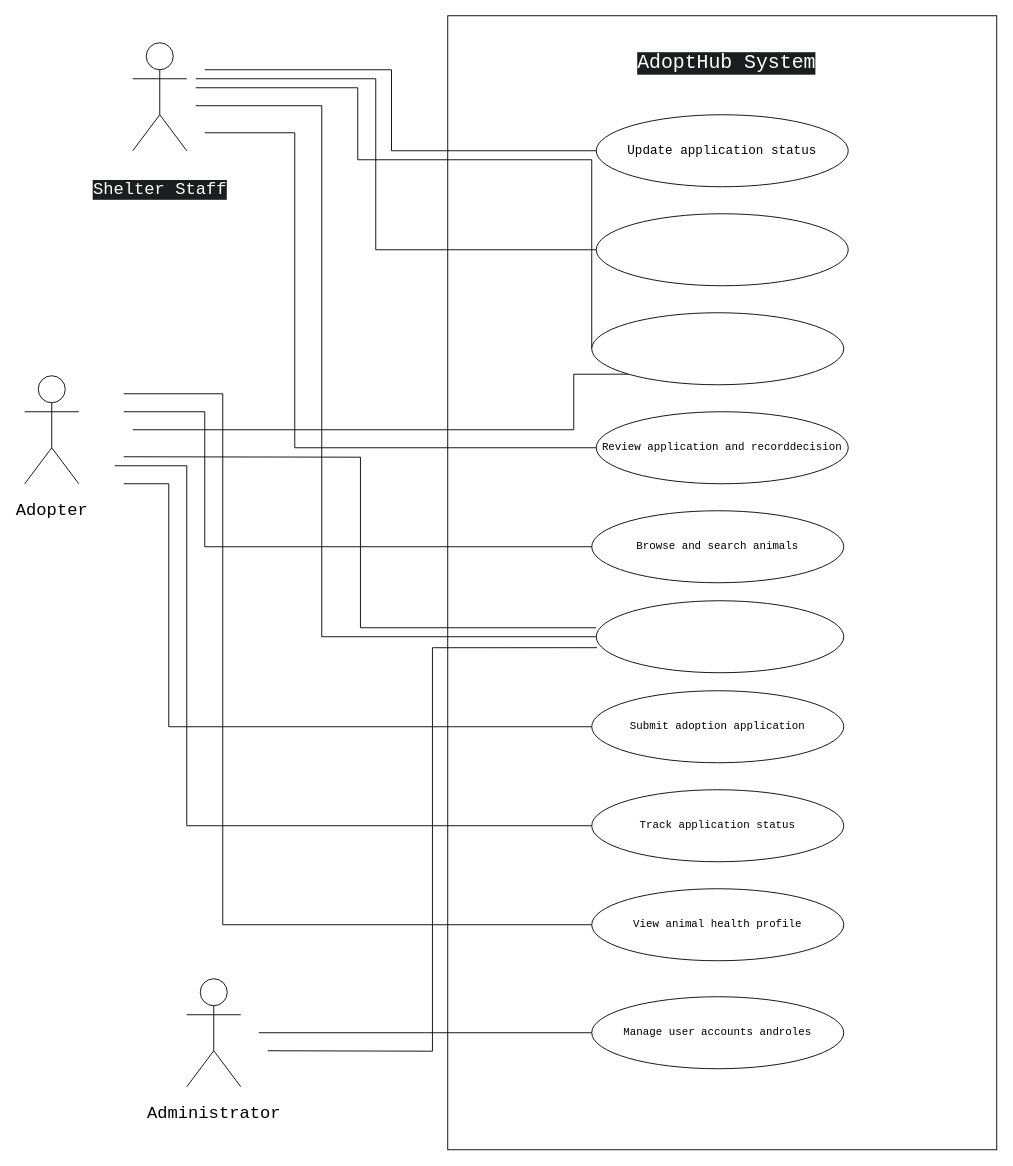
Image size: 1013x1166. Some labels were removed from this diagram. The centre of each missing label's shape, as x and y in pixels:
"Log in" belongs at point 719,636.
"Manage animal records" belongs at point 721,249.
"Schedule meet-and-greet" belongs at point 717,348.
